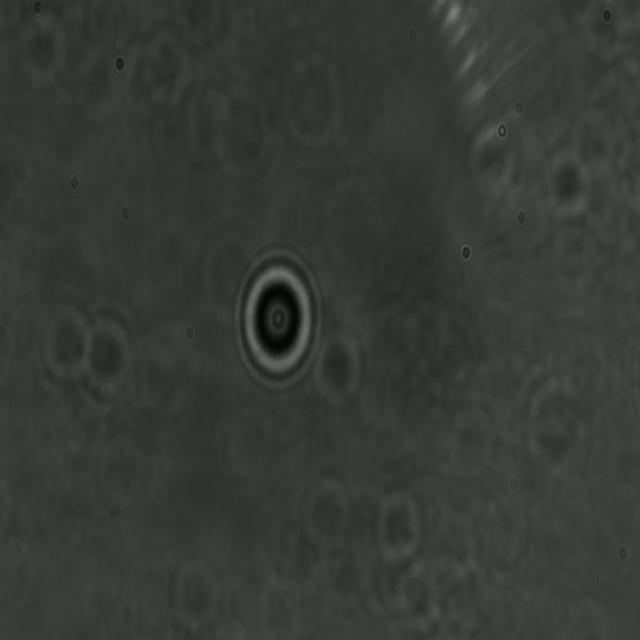LCELL: (230, 244, 324, 394)
